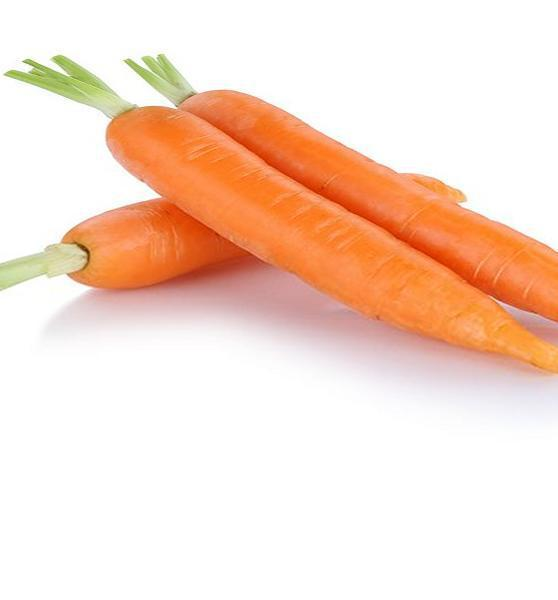carrot: (67, 73, 558, 361)
